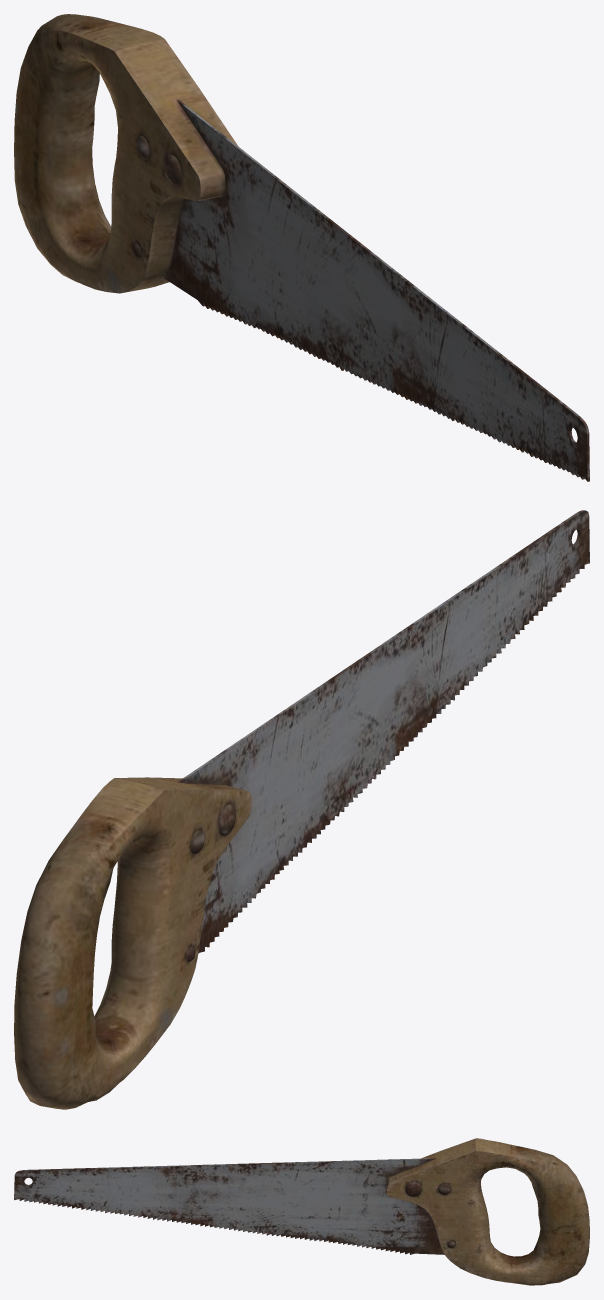
The picture shows the model from 3 angles, top to bottom: view 1: azimuth 30°, elevation 25°; view 2: azimuth 150°, elevation 25°; view 3: azimuth 270°, elevation 25°; orthographic projection. The views are drawn at different scales.
Visible parts, largest first — view 1: handsaw_wood; view 2: handsaw_wood; view 3: handsaw_wood.
Boxes of the visible parts, <box> form: handsaw_wood: <box>14,14,589,481</box>; handsaw_wood: <box>14,510,589,1109</box>; handsaw_wood: <box>14,1138,589,1285</box>.
Size of the model in its own units: 0.0408 by 0.1665 by 0.633.
Materials: 1 (1 with a texture image).
